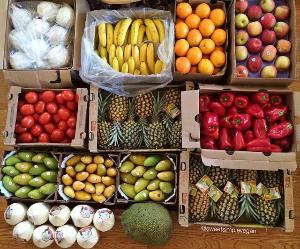apple: (232, 0, 300, 81), (277, 39, 292, 55)
banana: (78, 2, 169, 80), (137, 25, 146, 45)
bell_pepper: (192, 88, 300, 162), (269, 122, 294, 139)
mango: (116, 154, 178, 206), (4, 156, 58, 202), (60, 157, 116, 201), (156, 160, 172, 172), (44, 158, 58, 170), (107, 169, 117, 178)
orange: (172, 0, 232, 74), (199, 38, 216, 54)
pineapple: (185, 152, 293, 230), (90, 82, 188, 153), (217, 193, 240, 225), (108, 95, 128, 122)
tomato: (0, 86, 82, 144), (61, 90, 74, 102)
